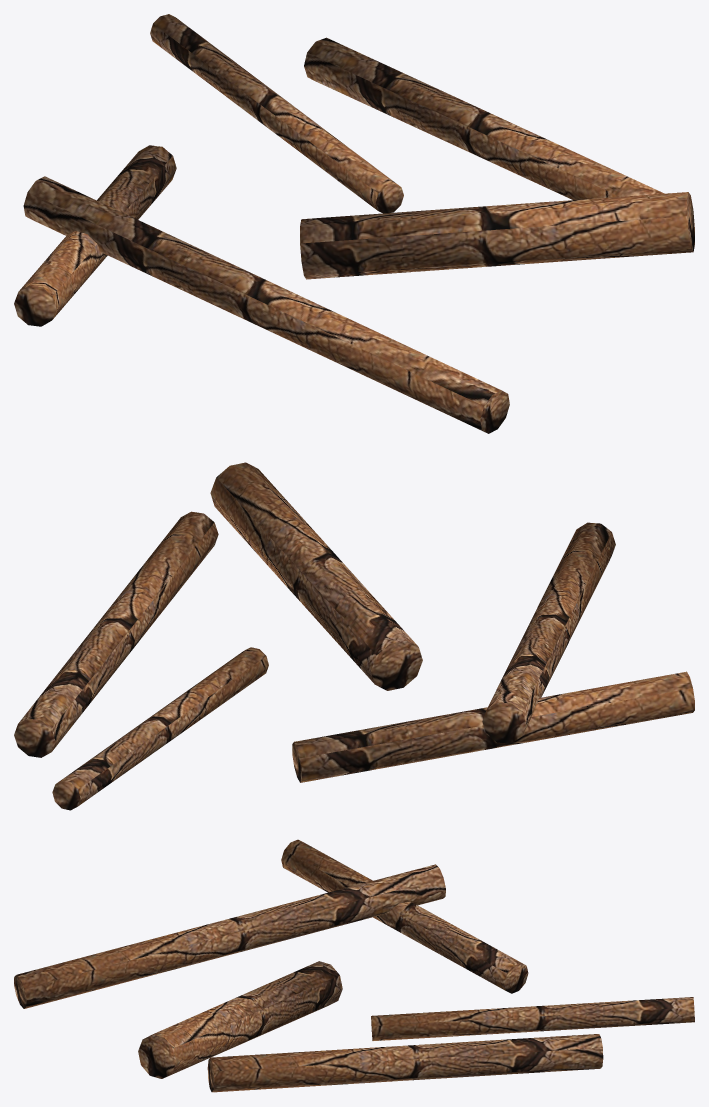
Rendered from prop_deadfall_branches.glb.
3 renders of one model, top to bottom at view 1: azimuth 30°, elevation 25°; view 2: azimuth 150°, elevation 25°; view 3: azimuth 270°, elevation 25°, orthographic. The views are drawn at different scales.
Visible parts, largest first — view 1: branch_2, branch_3, branch_0, branch_1, branch_4; view 2: branch_2, branch_4, branch_0, branch_3, branch_1; view 3: branch_3, branch_0, branch_2, branch_1, branch_4.
Boxes of the visible parts, x1,y1,x2,y2 form: branch_2: [300, 192, 694, 279]; branch_3: [23, 176, 509, 433]; branch_0: [304, 37, 664, 199]; branch_1: [150, 14, 403, 213]; branch_4: [14, 145, 176, 326]; branch_2: [210, 462, 422, 690]; branch_4: [292, 671, 694, 782]; branch_0: [14, 511, 218, 757]; branch_3: [482, 522, 615, 743]; branch_1: [52, 647, 268, 810]; branch_3: [14, 864, 445, 1008]; branch_0: [207, 1034, 603, 1092]; branch_2: [138, 961, 342, 1078]; branch_1: [371, 997, 694, 1040]; branch_4: [281, 839, 528, 993].
Size of the model in its own units: 1.36 by 0.2168 by 1.75.
1 material, 1 textured.
